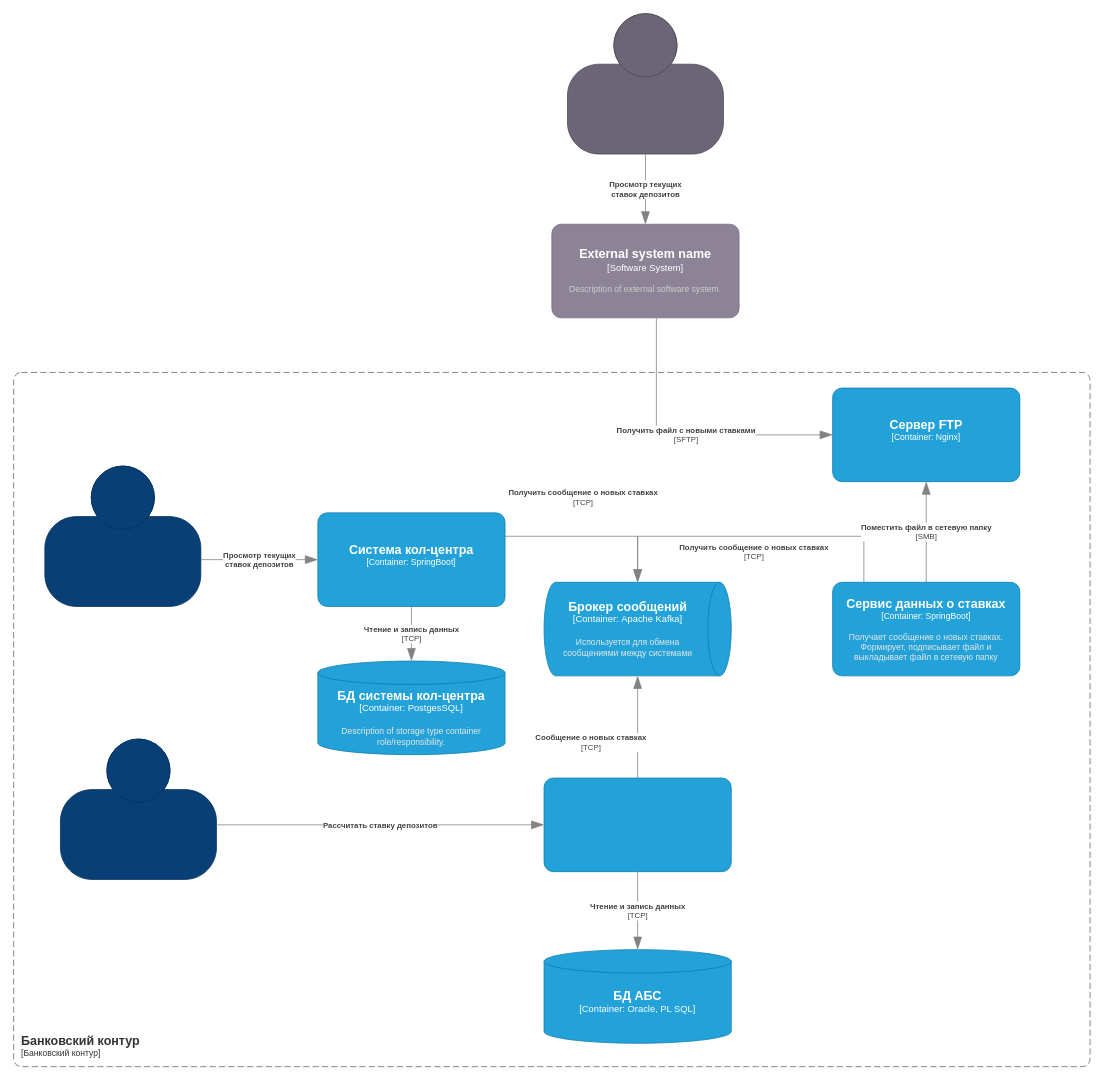
This 1104x1080 diagram has some shape labels left out. Here are the shapes that lost their labels. From the top down, the box of each, then its label:
(567, 13, 723, 154): External person name [Person] Description of external person.
(44, 465, 201, 606): Сотрудник кол-центра [Person]
(60, 738, 216, 879): Сотрудник бек-офиса депозитов [Person]
(543, 777, 731, 872): АБС [Container: Delphi]
